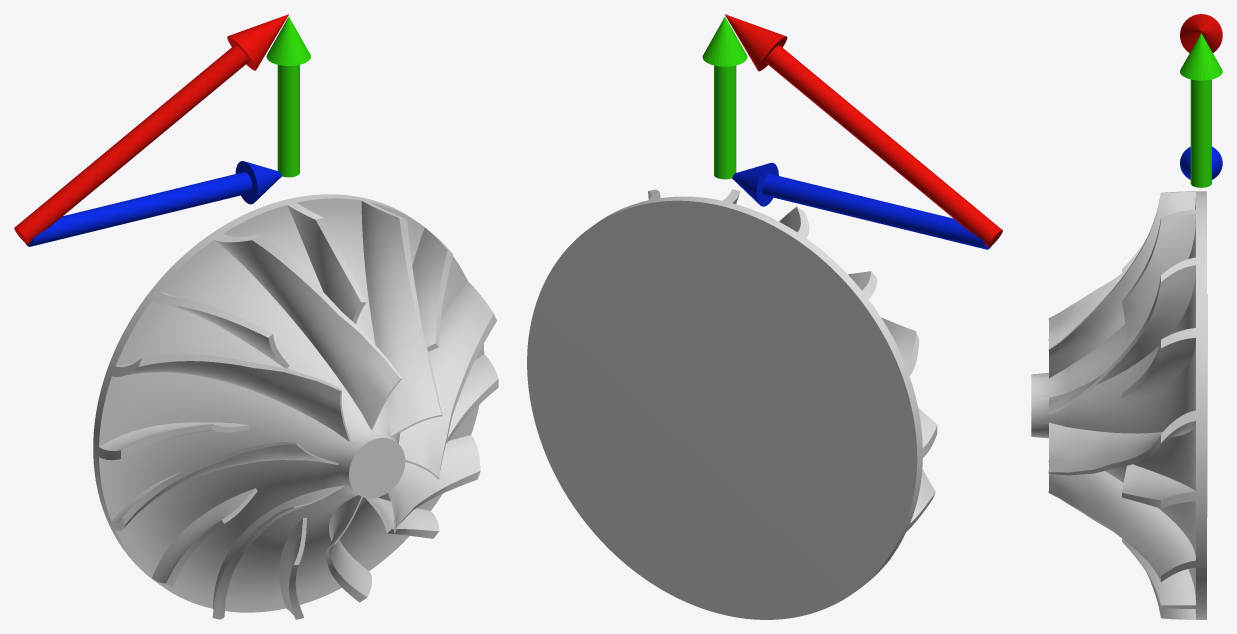
Rendered from compressor.glb.
3 renders of one model, left to right at view 1: azimuth 30°, elevation 25°; view 2: azimuth 150°, elevation 25°; view 3: azimuth 270°, elevation 25°, orthographic. The views are drawn at different scales.
Parts seen in each view (by area): view 1: Impeller, arrow3, arrow1, arrow2; view 2: Impeller, arrow3, arrow1, arrow2; view 3: Impeller, arrow2, arrow3, arrow1.
Boxes of the visible parts, x1,y1,x2,y2 form: Impeller: (93, 194, 498, 619); arrow3: (14, 14, 288, 244); arrow1: (25, 161, 281, 246); arrow2: (266, 16, 310, 177); Impeller: (527, 189, 937, 619); arrow3: (724, 14, 1002, 247); arrow1: (732, 162, 991, 249); arrow2: (702, 17, 747, 179); Impeller: (1031, 191, 1207, 619); arrow2: (1180, 33, 1222, 187); arrow3: (1180, 14, 1222, 52); arrow1: (1180, 146, 1222, 179).
Bounding box in the file's own units: 2.41 × 2.93 × 0.8937.
